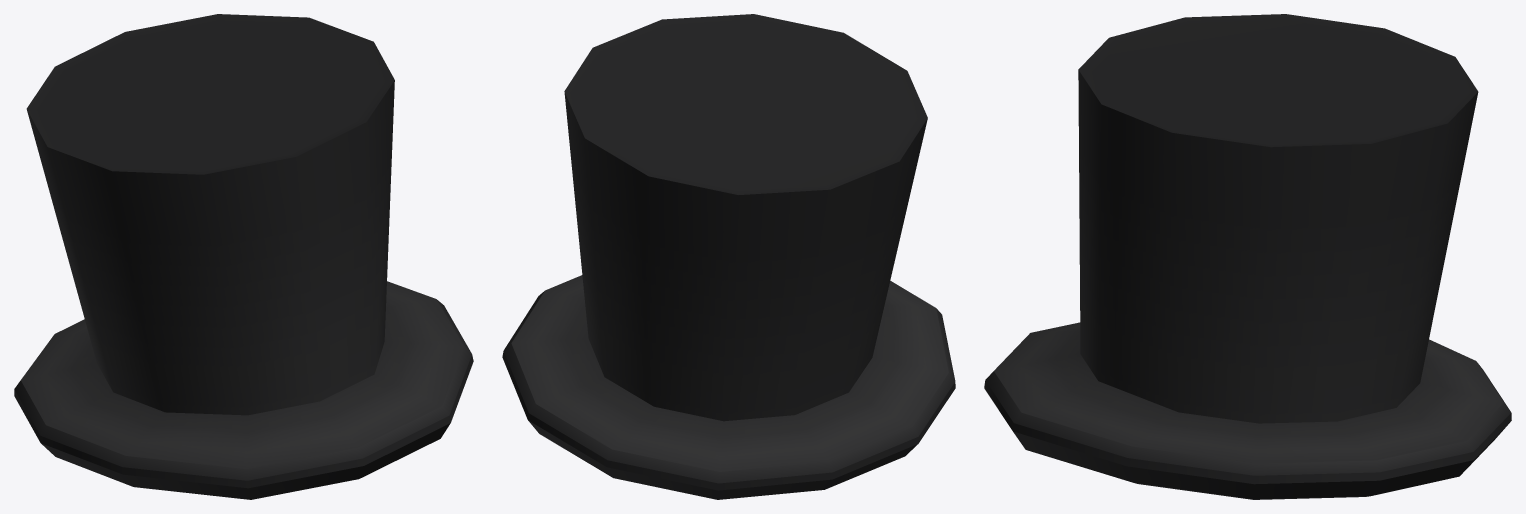
File: hat_tophat.fbx
3 views of the same model, side by side, from view 1: azimuth 30°, elevation 25°; view 2: azimuth 150°, elevation 25°; view 3: azimuth 270°, elevation 25° (orthographic). The views are drawn at different scales.
Parts seen in each view (by area): view 1: TopHat_OBJ; view 2: TopHat_OBJ; view 3: TopHat_OBJ.
Part boxes in pixels (x1,y1,x2,y2): TopHat_OBJ: (14,14,473,499); TopHat_OBJ: (502,14,955,499); TopHat_OBJ: (984,14,1511,499).
Size of the model in its own units: 1.49 by 1.24 by 1.59.
